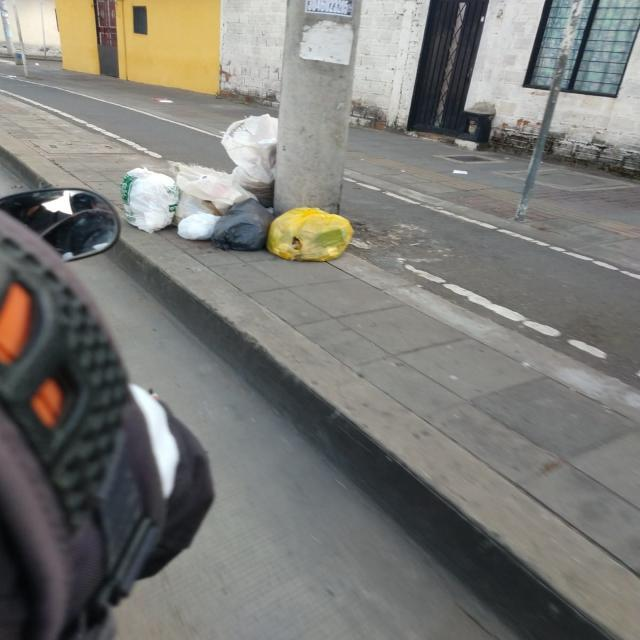high trash: (121, 112, 351, 261)
